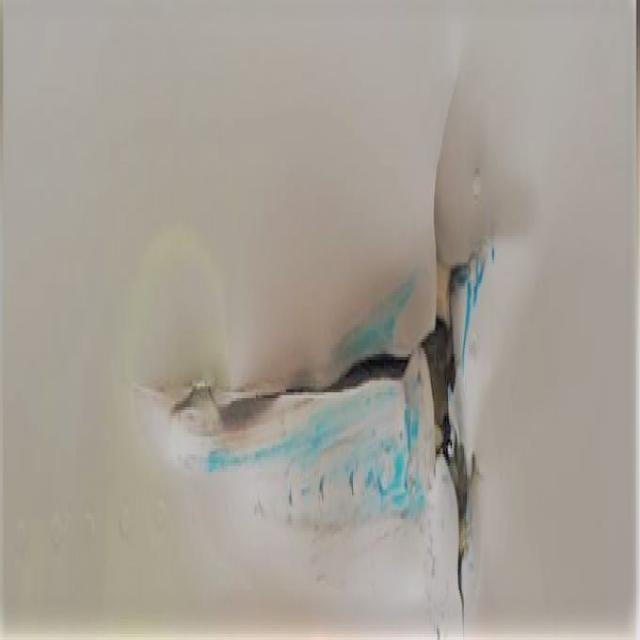Rupture: (136, 180, 540, 581)
